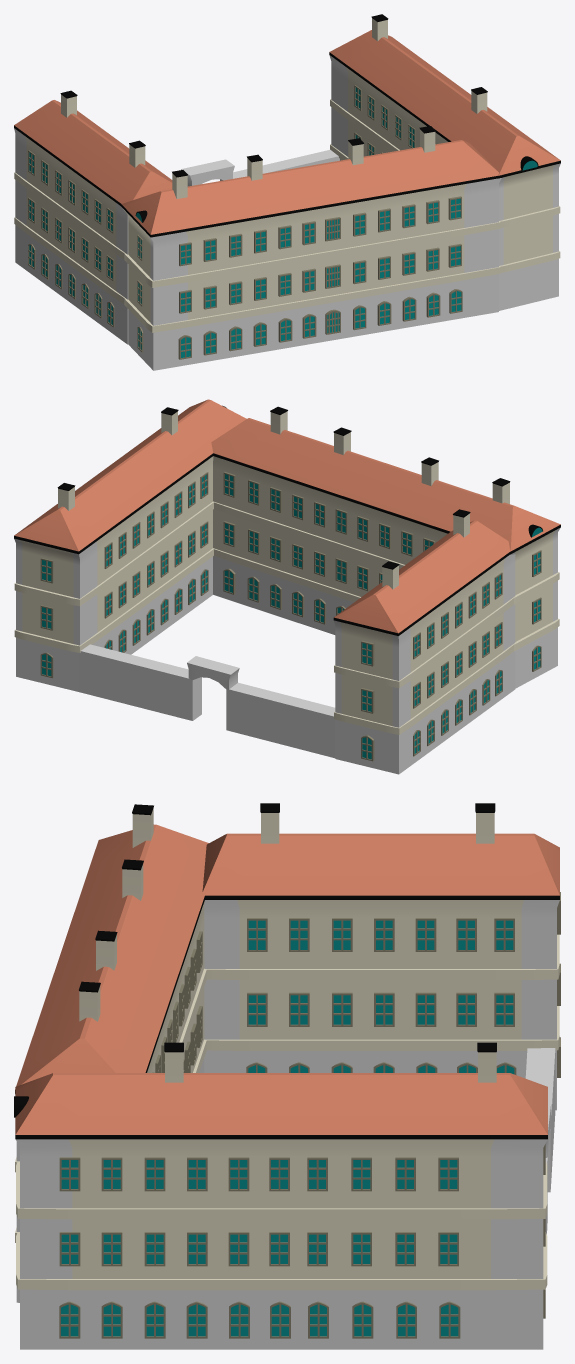
The model's file is Birger Jarls torg06.fbx.
The picture shows the model from 3 angles, top to bottom: view 1: azimuth 30°, elevation 25°; view 2: azimuth 150°, elevation 25°; view 3: azimuth 270°, elevation 25°; orthographic projection. The views are drawn at different scales.
Parts seen in each view (by area): view 1: pCube93; view 2: pCube93; view 3: pCube93.
Boxes of the visible parts, x1,y1,x2,y2 form: pCube93: (14,14,560,370); pCube93: (14,399,560,774); pCube93: (14,803,560,1349).
Bounding box in the file's own units: 776 × 342 × 607.
